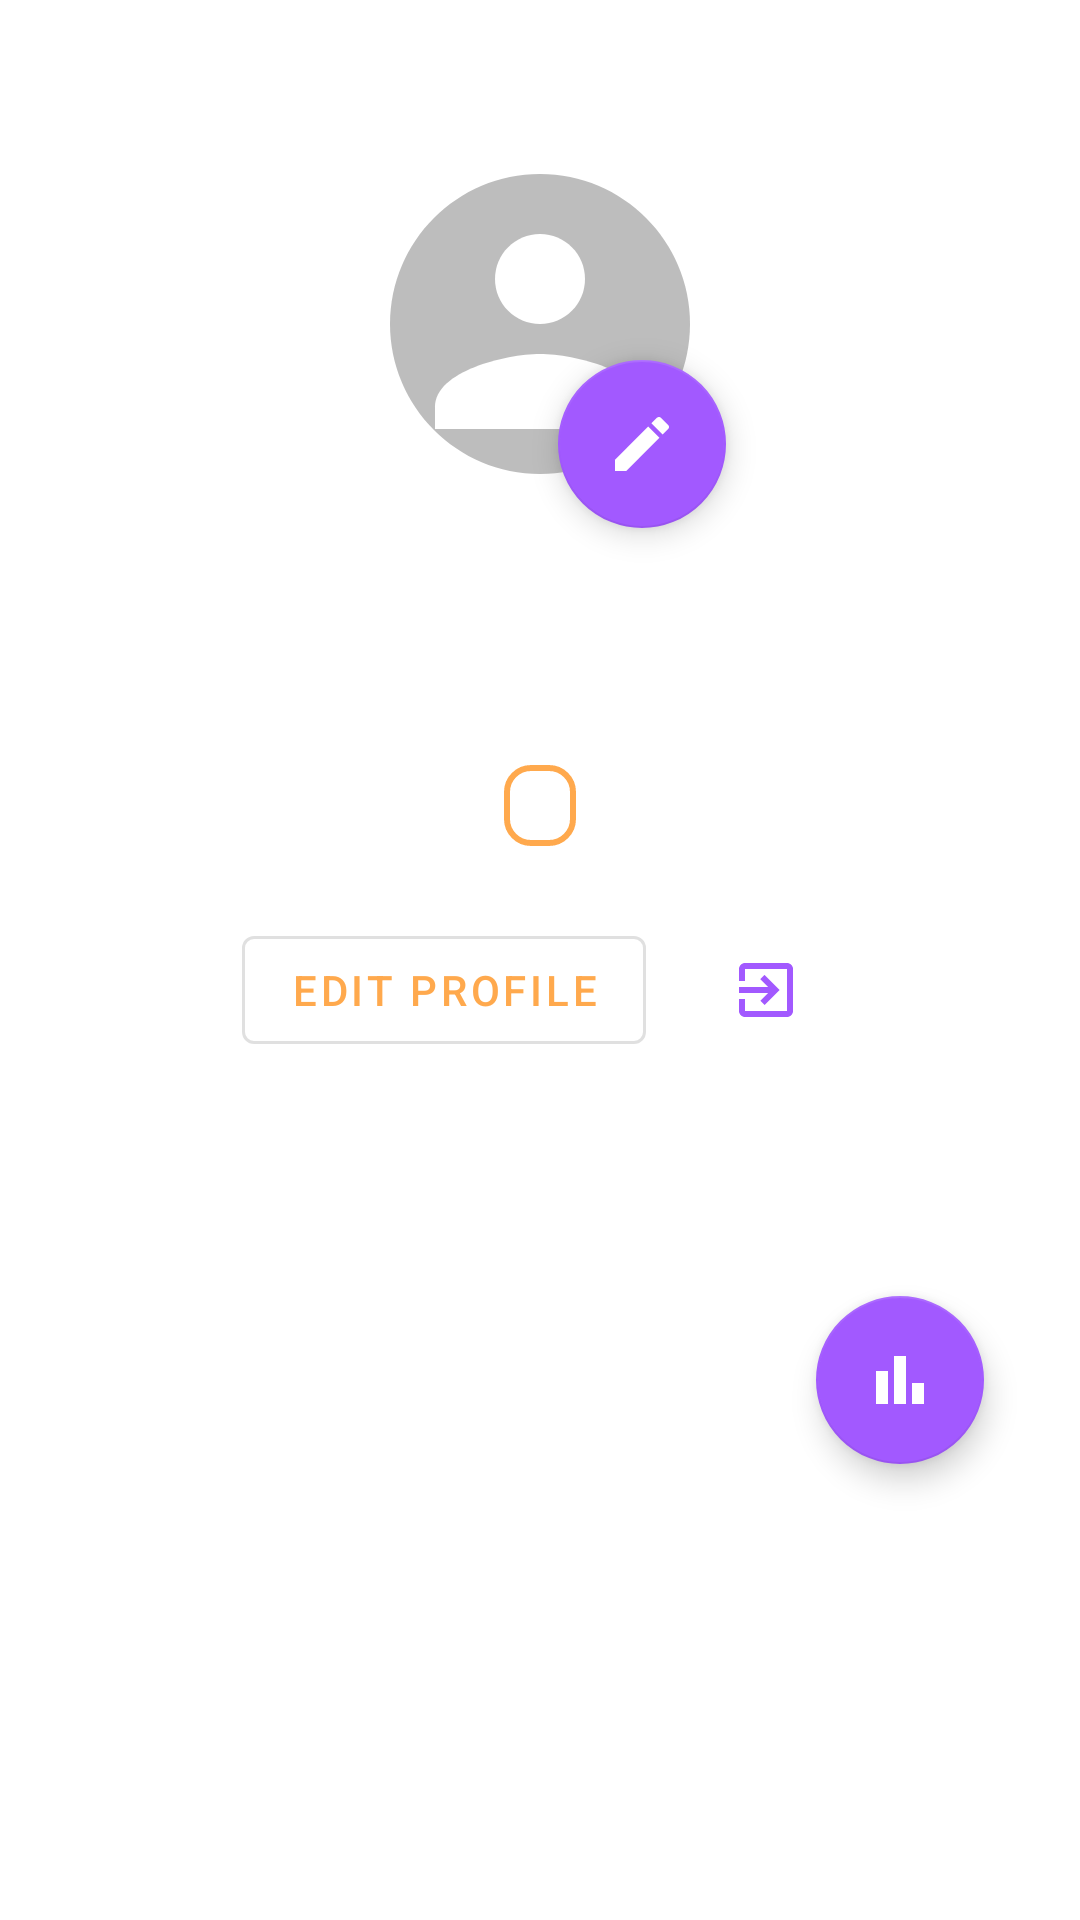

Icon bounding boxes for this 1080x1920 phone screenshot, format box=[x1, y1, x2, y2]:
Edit profile: box=[558, 360, 726, 528]
See stats: box=[816, 1296, 984, 1464]
